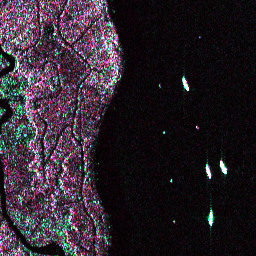ship: (180, 74, 191, 93), (218, 158, 229, 176), (203, 162, 213, 181), (207, 208, 214, 228)
